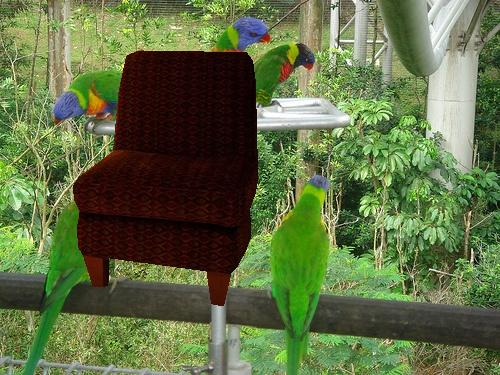tampered: (74, 51, 258, 306)
